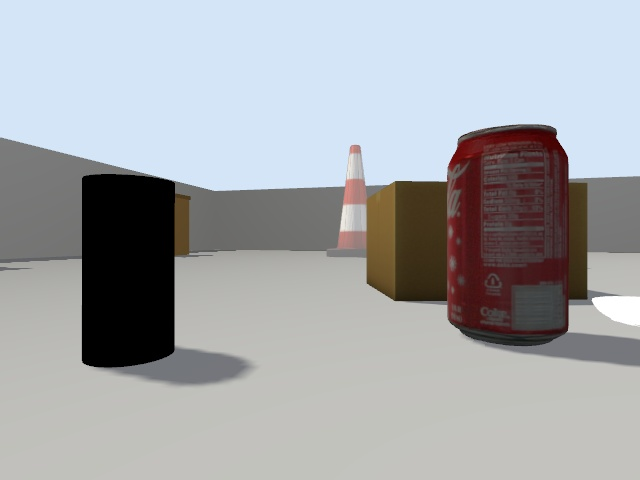bol: (592, 296, 639, 325)
bouteille_verre: (81, 174, 174, 367)
canette: (445, 124, 569, 345)
carton: (366, 181, 446, 300), (568, 183, 587, 299)
cone_chantier: (326, 145, 367, 258)
